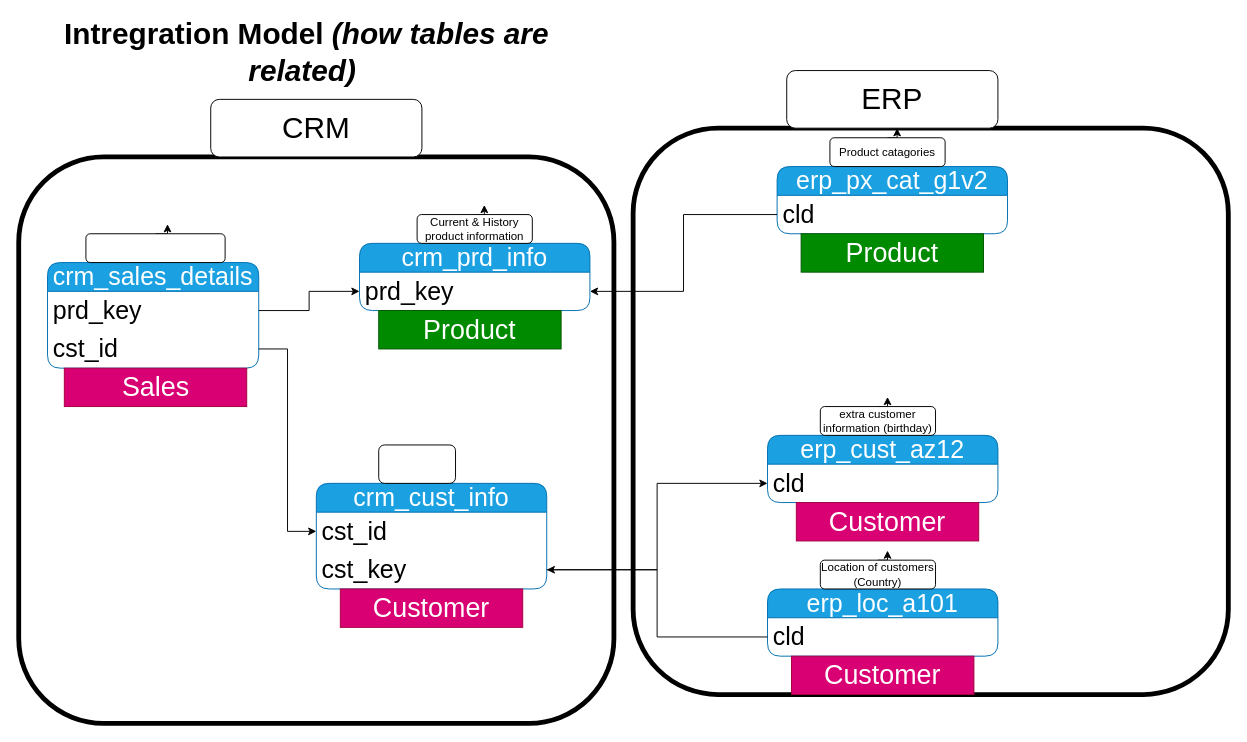
Some shapes in this 1247 by 742 pixel diagram are drawn without their labels. Each missing label, with the centre of its shape:
Customer Information: the point at 417,463
Transactional records about sales and orders: the point at 155,248
